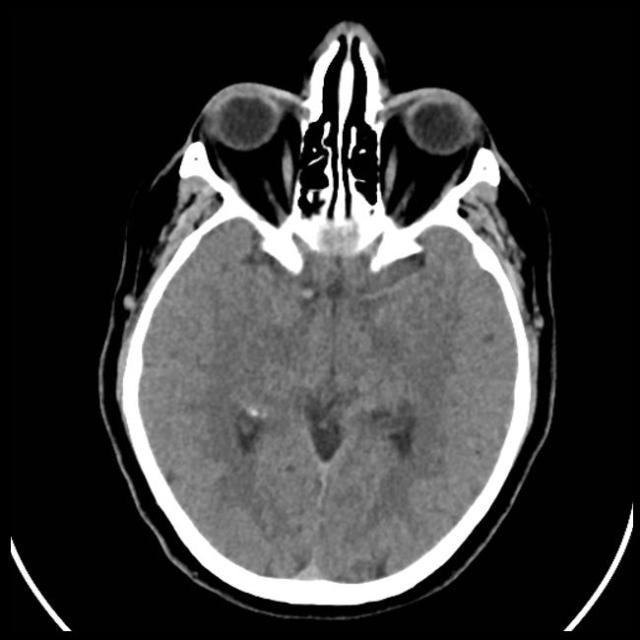lesion: (95, 19, 561, 608)
